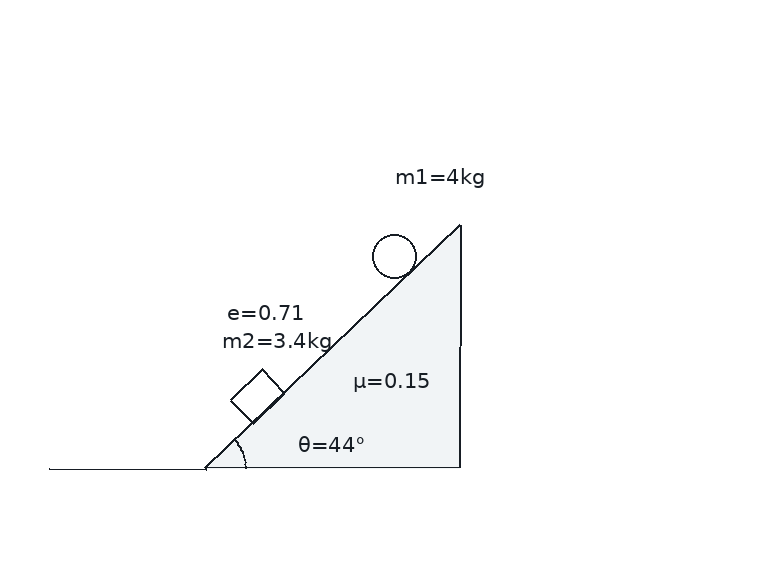ball: (370, 232, 418, 280)
block: (228, 367, 286, 425)
ramp: (204, 221, 461, 470)
